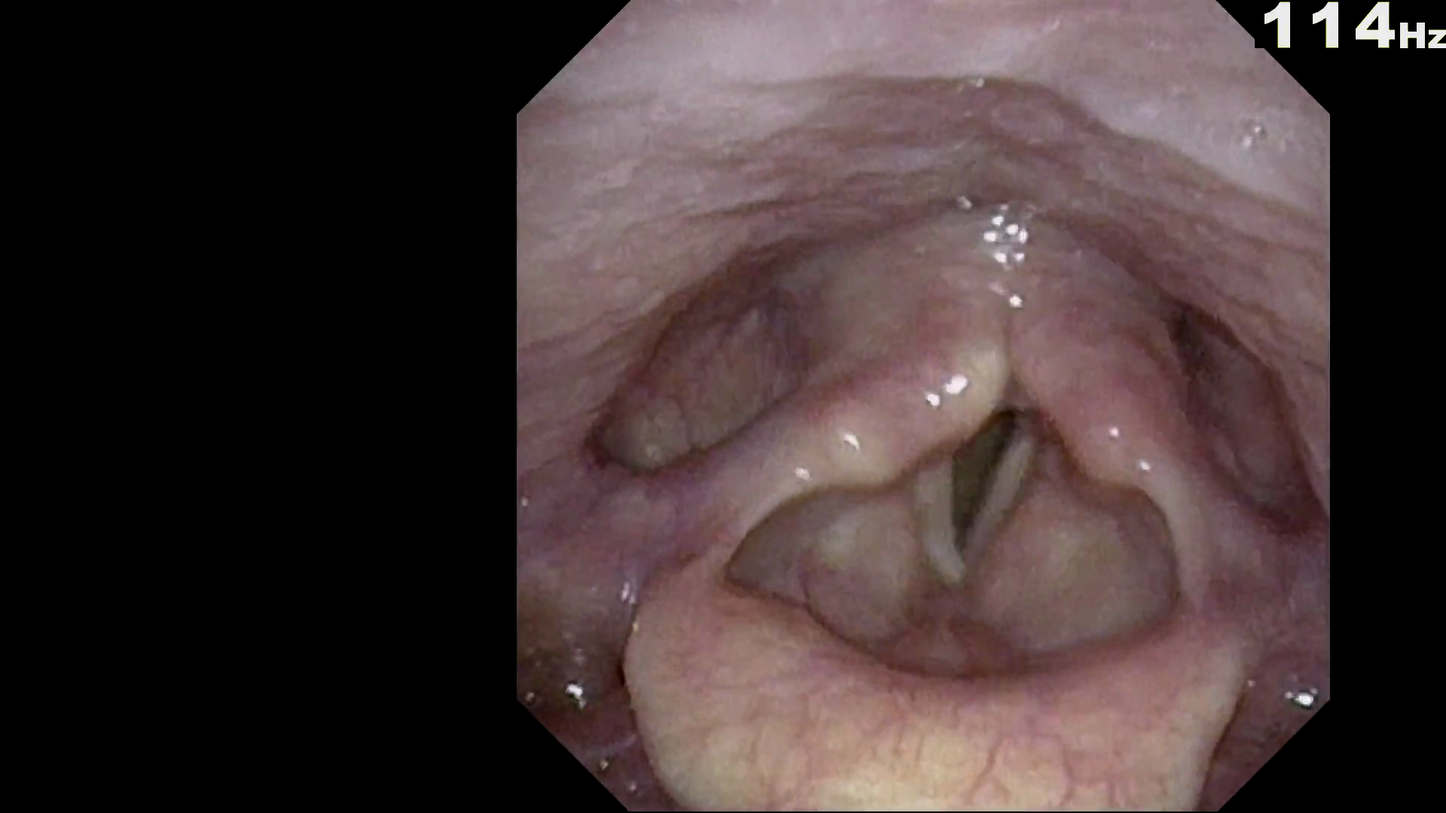epiglottis: (604, 503, 1249, 772)
trachea: (876, 365, 1055, 590)
